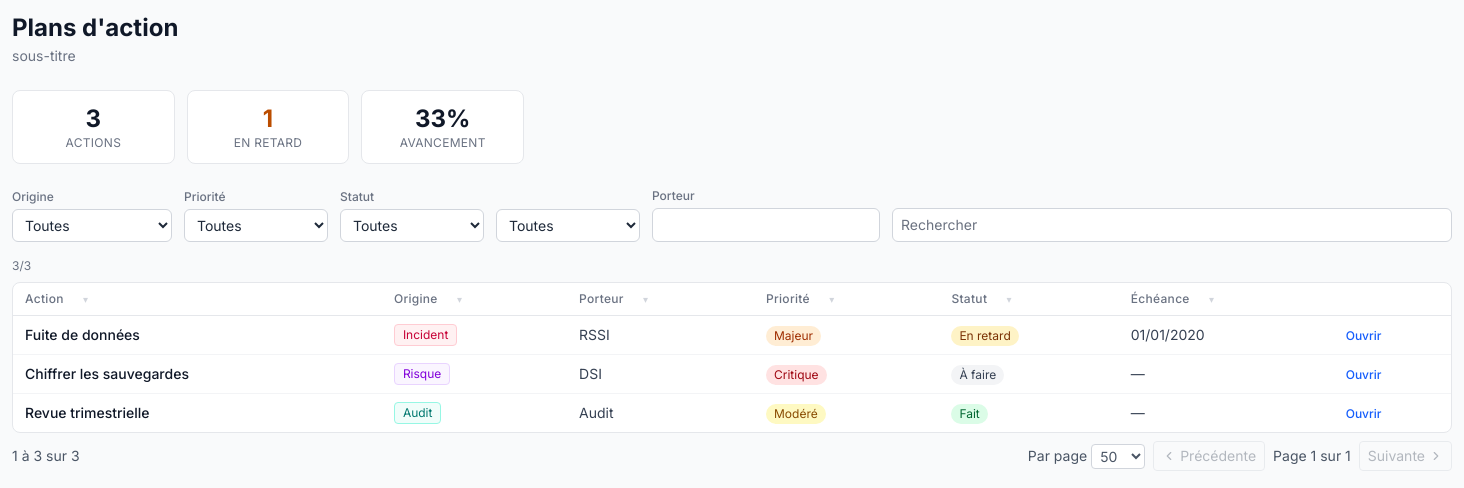
PlansActionsView › filtre par origine (typologie) côté serveur, état dans l'URL
The width and height of the screenshot is (1464, 488).
Select "Risque" in the dropdown labelled "Origine" at (92,226), box [12,209,172,242]
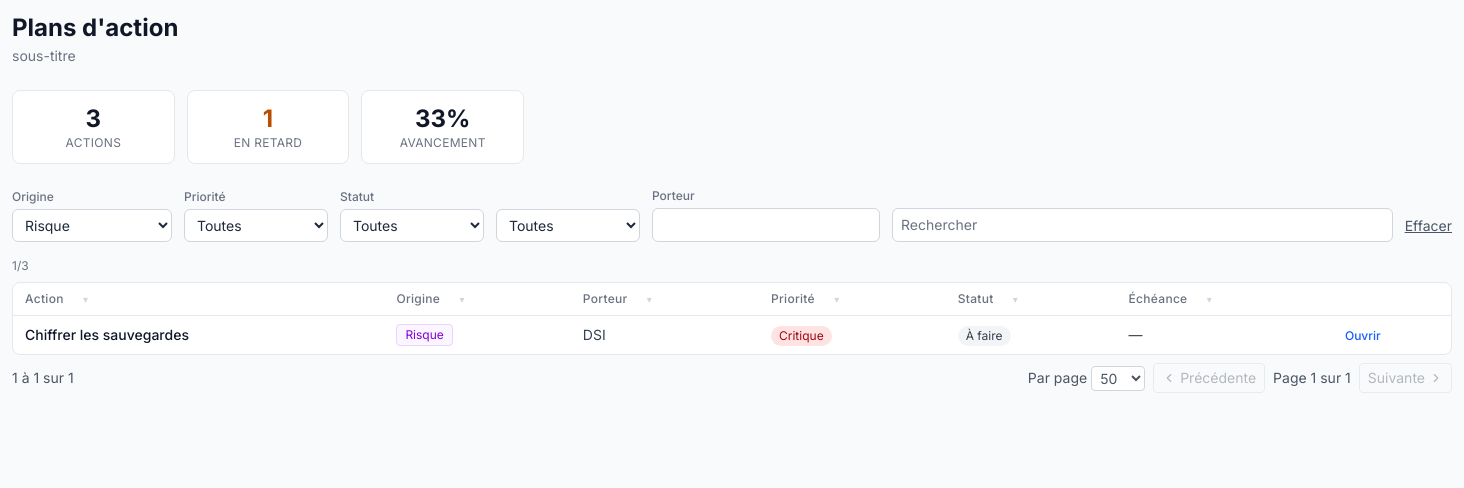
Check: the text "Revue trimestrielle" is not shown
Check: the text "Chiffrer les sauvegardes" is shown 2 times
